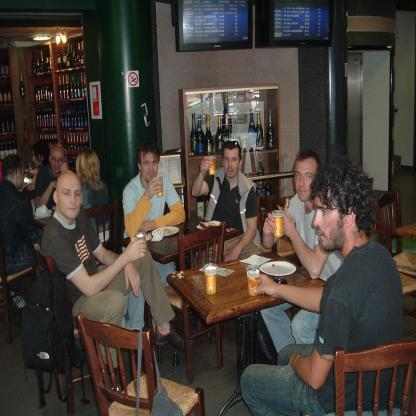drinking: (245, 265, 260, 296), (204, 263, 218, 294), (266, 109, 275, 150), (196, 114, 205, 155), (255, 110, 264, 150), (271, 210, 284, 237), (205, 115, 213, 156), (190, 114, 198, 154), (135, 232, 146, 256), (156, 176, 164, 198), (208, 155, 216, 176)
